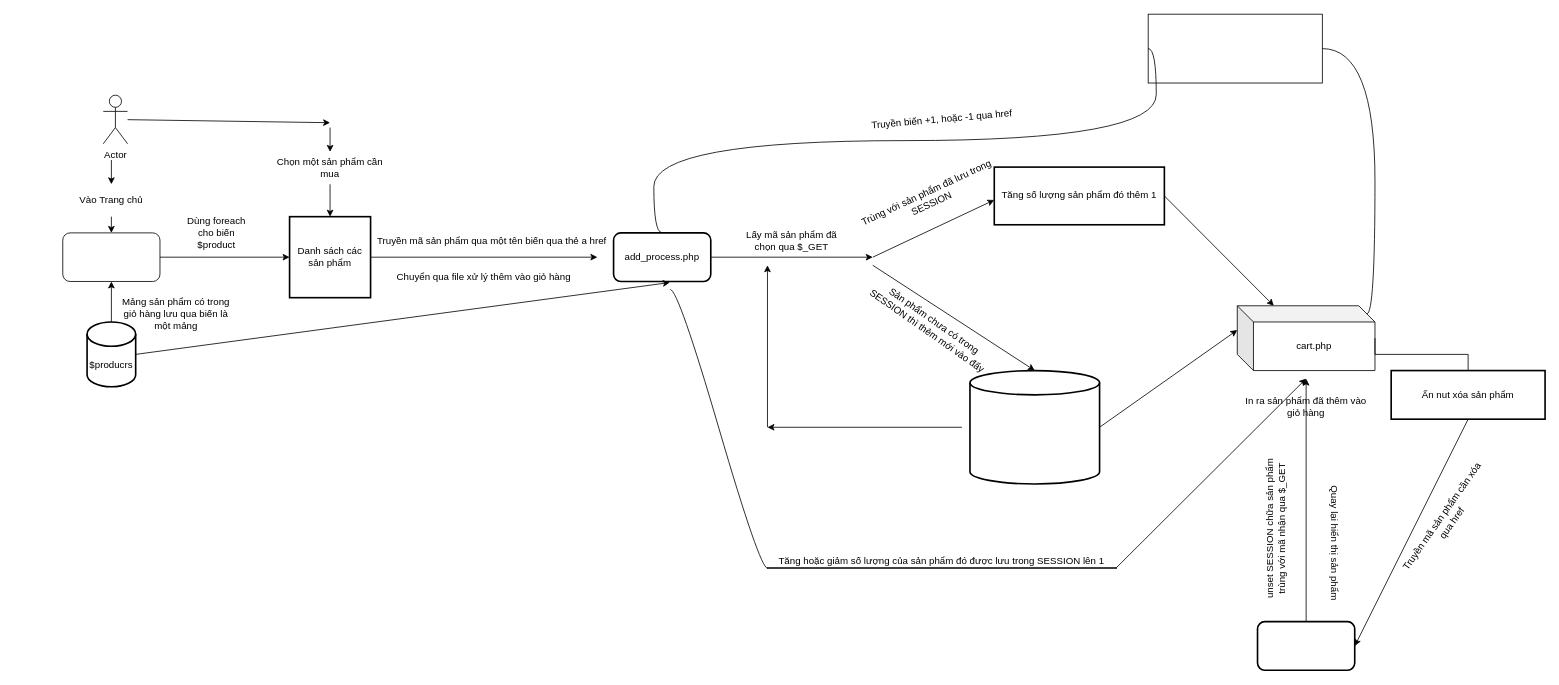
This 1559x685 diagram has some shape labels left out. Each missing label, with the centre of its shape:
"$_SESSION['products]" goes at point 1034,426.
"index.php" goes at point 111,256.
"remove.php" goes at point 1305,645.
"Ấn nut tăng giảm số lượng" goes at point 1234,48.
